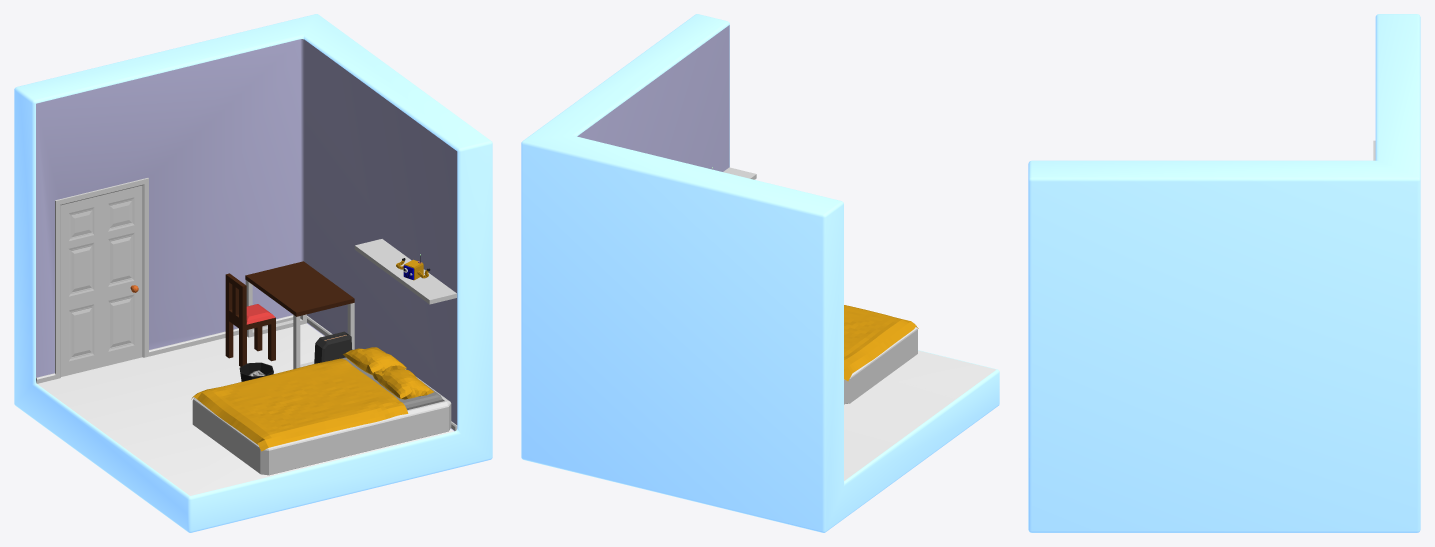
The model's file is CozzyRoom_1.glb.
The picture shows the model from 3 angles, left to right: view 1: azimuth 30°, elevation 25°; view 2: azimuth 150°, elevation 25°; view 3: azimuth 270°, elevation 25°; orthographic projection. The views are drawn at different scales.
Visible parts, largest first — view 1: Cube.024, Cube.004, Plane.008, Cube.002, Cube.015, Cube.023, Cube.008, Cube.007, Plane.010, Cube.005, Plane.009, Cube.013 (+2 smaller); view 2: Cube.024, Plane.008, Cube.002; view 3: Cube.024.
Part boxes in pixels (left/top/right/bottom): Cube.024: left=14, top=14, right=492, bottom=532; Cube.004: left=61, top=185, right=142, bottom=376; Plane.008: left=191, top=358, right=408, bottom=451; Cube.002: left=192, top=357, right=451, bottom=475; Cube.015: left=245, top=261, right=354, bottom=369; Cube.023: left=225, top=273, right=275, bottom=366; Cube.008: left=354, top=239, right=456, bottom=304; Cube.007: left=142, top=178, right=148, bottom=357; Plane.010: left=372, top=369, right=433, bottom=399; Cube.005: left=55, top=199, right=60, bottom=379; Plane.009: left=343, top=347, right=406, bottom=374; Cube.013: left=314, top=331, right=352, bottom=363; Cube.024: left=521, top=14, right=999, bottom=532; Plane.008: left=844, top=305, right=918, bottom=381; Cube.002: left=844, top=327, right=917, bottom=404; Cube.024: left=1028, top=14, right=1420, bottom=532.
Size of the model in its own units: 2.26 by 2.26 by 2.26.
